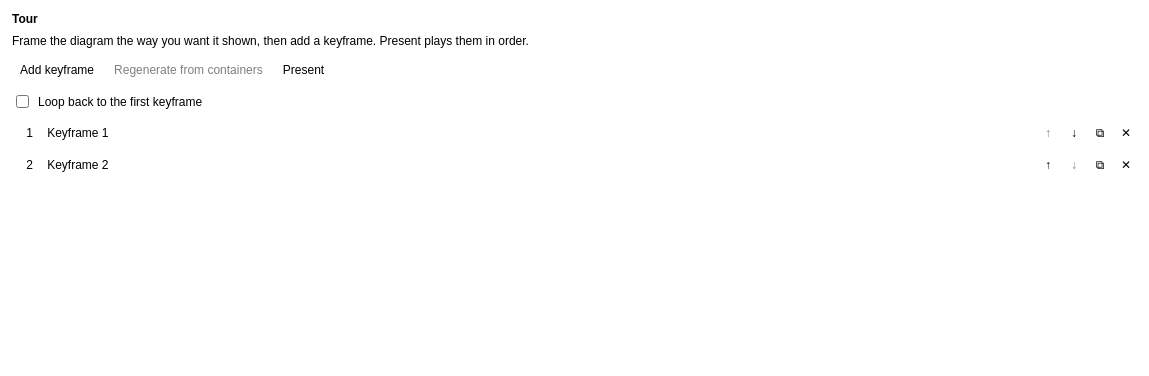
it: a keyframe’s fields › commits a caption on blur as one edit, not per keystroke, and Enter commits too
The image size is (1149, 376).
Click the button with class "tour-row-main" showing "2 Keyframe 2" at {"x": 78, "y": 165}, box [14,154,1032,176]
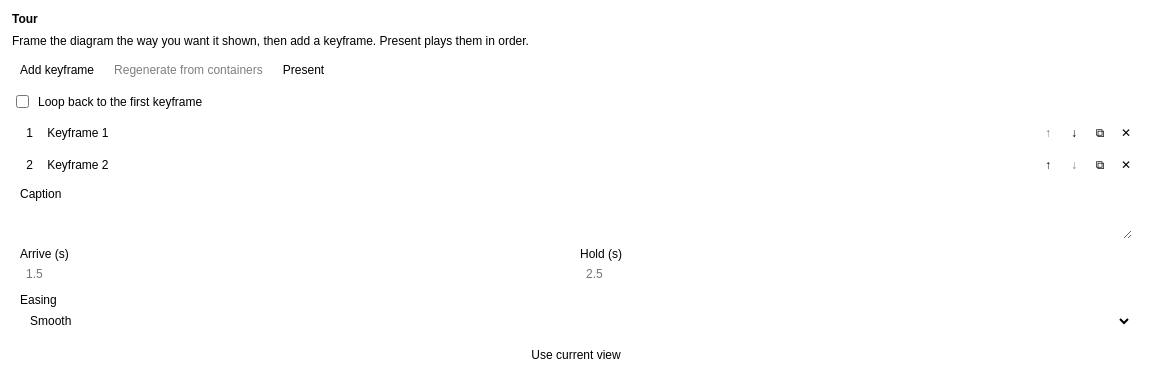
Type "T" into the text box labelled "Caption" at {"x": 576, "y": 221}, box [20,203,1132,239]
Replace the text in the text box labelled "Caption" with "Th" at {"x": 576, "y": 221}, box [20,203,1132,239]
Replace the text in the text box labelled "Caption" with "The A" at {"x": 576, "y": 221}, box [20,203,1132,239]
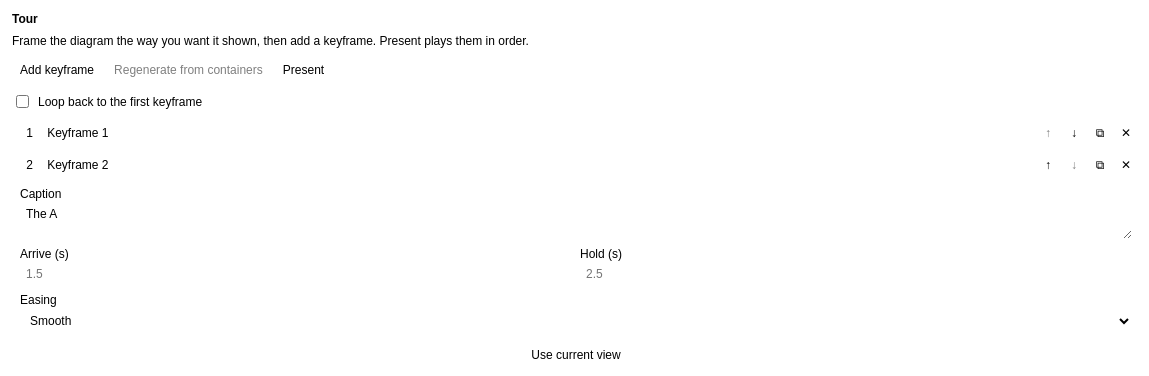
Replace the text in the text box labelled "Caption" with "The API" at {"x": 576, "y": 221}, box [20,203,1132,239]
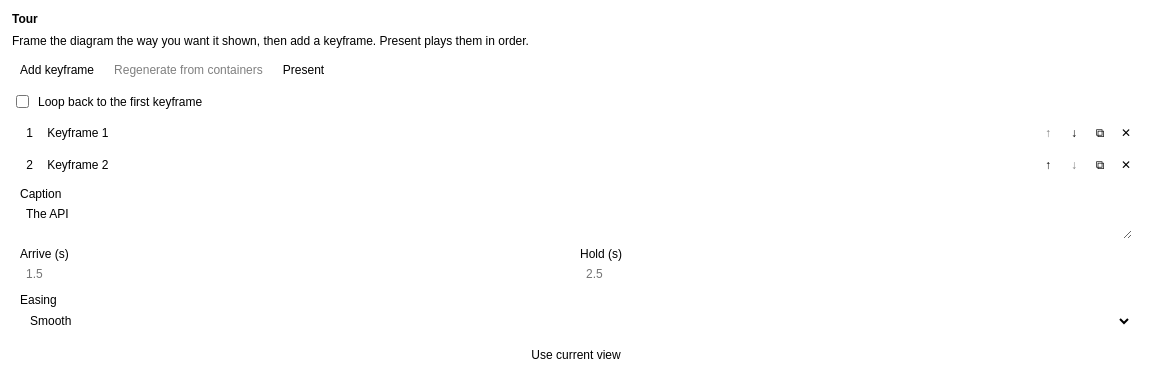
Leave the text box labelled "Caption", box [20,203,1132,239]
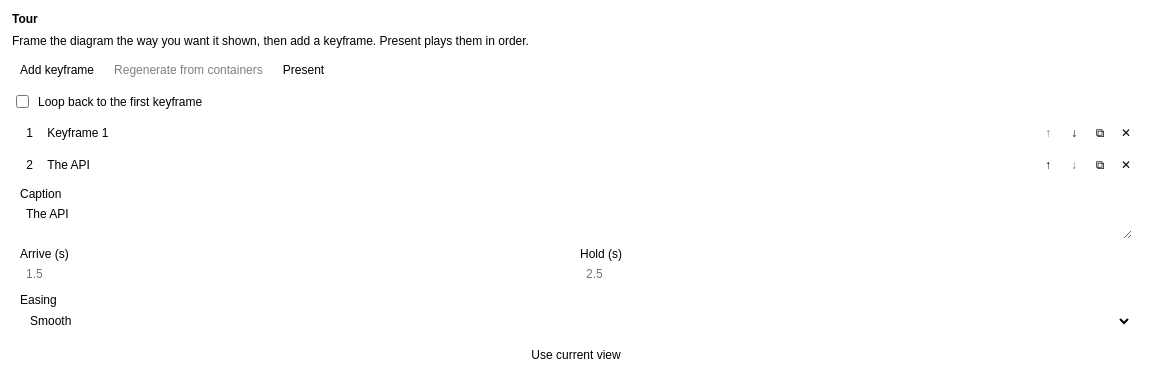
Expected: the text "The API" is shown, [47,158,90,172]
Replace the text in the text box labelled "Caption" with "Second" at {"x": 576, "y": 221}, box [20,203,1132,239]
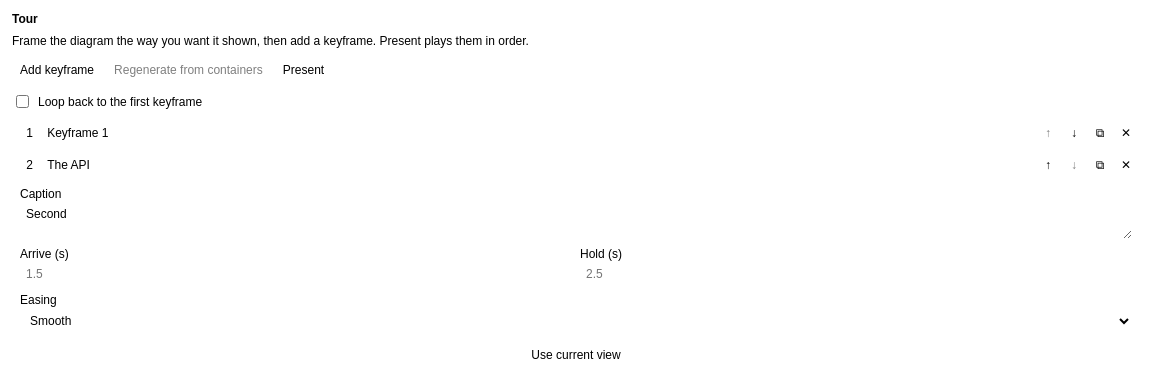
Press Enter in the text box labelled "Caption", box [20,203,1132,239]
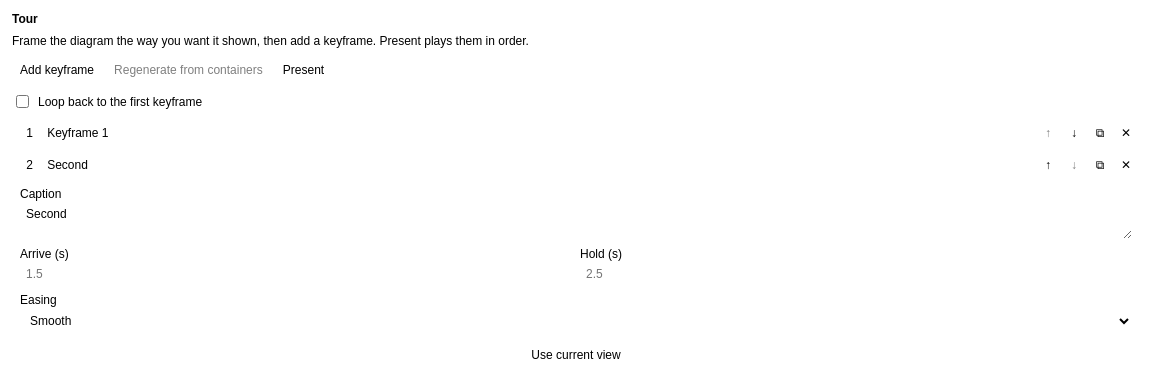
Expected: the text "Second" is shown, [47,158,88,172]
